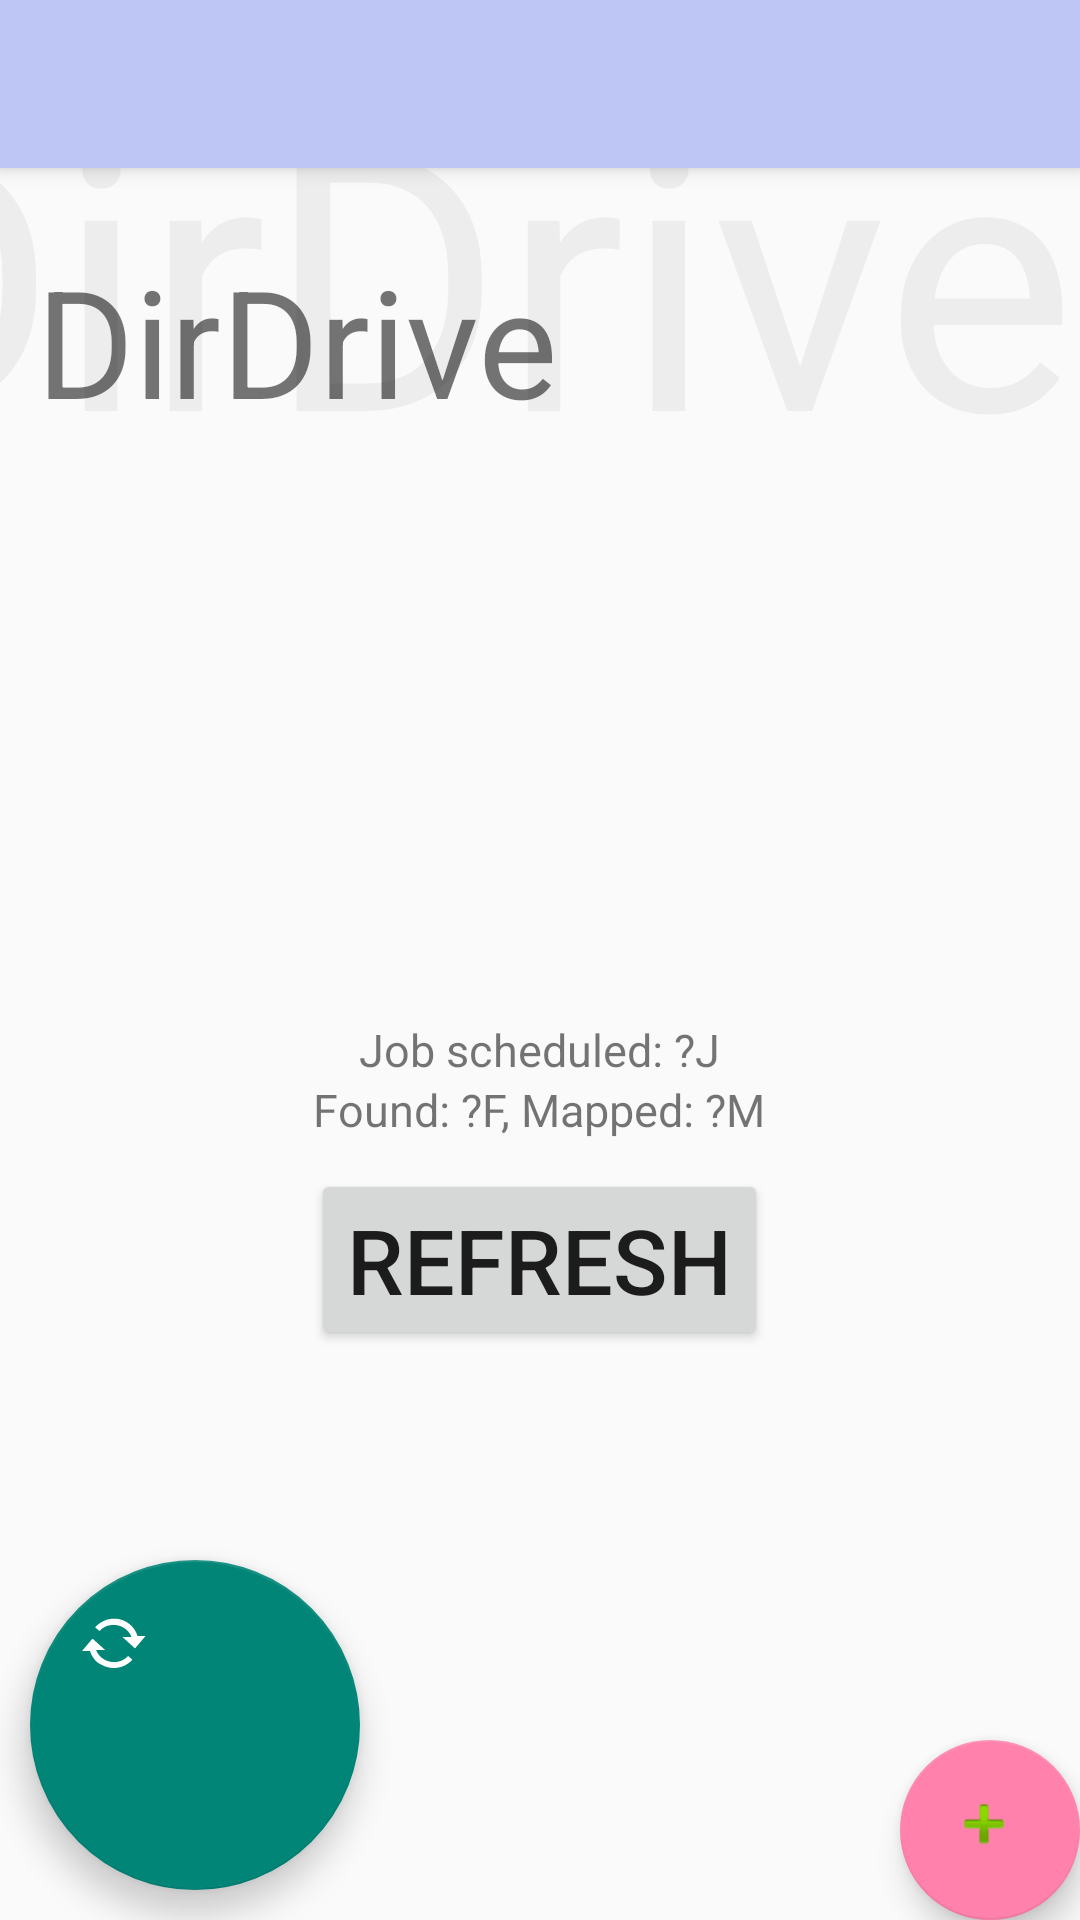

Locate icon controls on the screen. Image size 1080*1920, boxes as [x1=x1, y1=y1, x2=x2, y2=y2].
add: [x1=900, y1=1740, x2=1080, y2=1920]
sync: [x1=30, y1=1560, x2=360, y2=1890]
